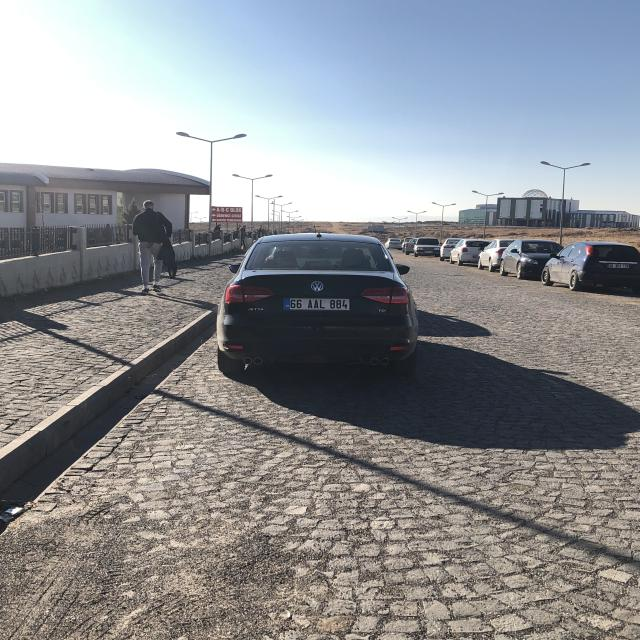license_plate: (283, 297, 350, 311)
